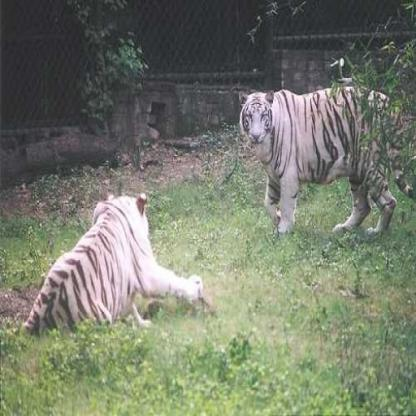Tiger: (29, 186, 204, 340), (235, 81, 403, 240)
